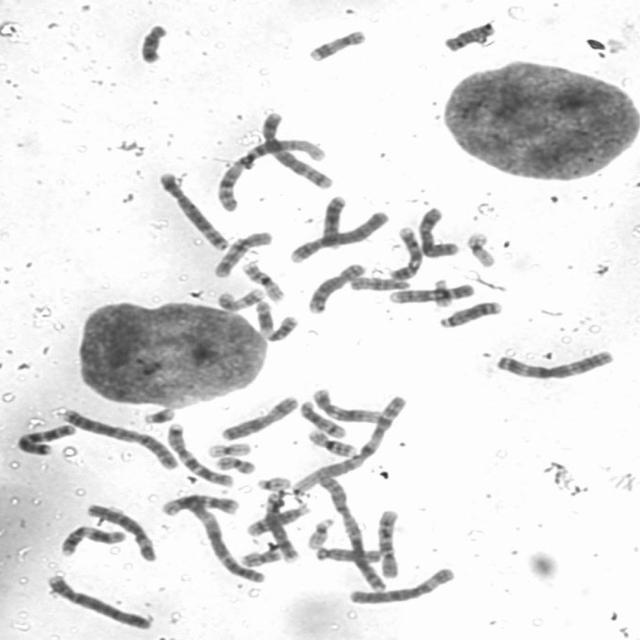A1: (288, 390, 411, 497), (212, 136, 332, 212)
A2: (314, 468, 392, 593), (56, 404, 180, 472)
A3: (181, 491, 267, 584), (491, 345, 617, 381)
B4: (40, 570, 154, 631), (286, 206, 392, 264)
B5: (154, 167, 233, 252), (257, 107, 335, 190)
C10: (209, 226, 273, 278), (372, 505, 402, 579)
C11: (54, 520, 127, 558), (250, 297, 300, 342)
C12: (308, 384, 386, 424), (157, 490, 242, 517)
C6: (82, 499, 160, 563), (345, 564, 459, 606)
C7: (163, 419, 236, 487), (11, 419, 78, 456)
C8: (304, 258, 369, 314), (264, 488, 303, 563)
C9: (386, 279, 478, 305), (387, 222, 425, 281)
D13: (435, 296, 504, 329), (319, 191, 349, 251)
D14: (243, 502, 312, 537), (296, 397, 348, 439)
D15: (310, 542, 384, 564), (345, 272, 412, 291)
E16: (238, 258, 286, 302), (302, 424, 360, 458)
E17: (304, 26, 369, 62), (214, 284, 267, 312)
E18: (441, 17, 498, 53), (135, 18, 172, 65)
F19: (462, 227, 499, 268), (203, 438, 253, 458)
F20: (212, 452, 258, 474), (238, 546, 282, 568)
G21: (139, 403, 177, 425), (432, 275, 453, 310)
G22: (304, 512, 337, 550), (253, 472, 293, 491)
X: (214, 391, 301, 442), (413, 202, 462, 259)
